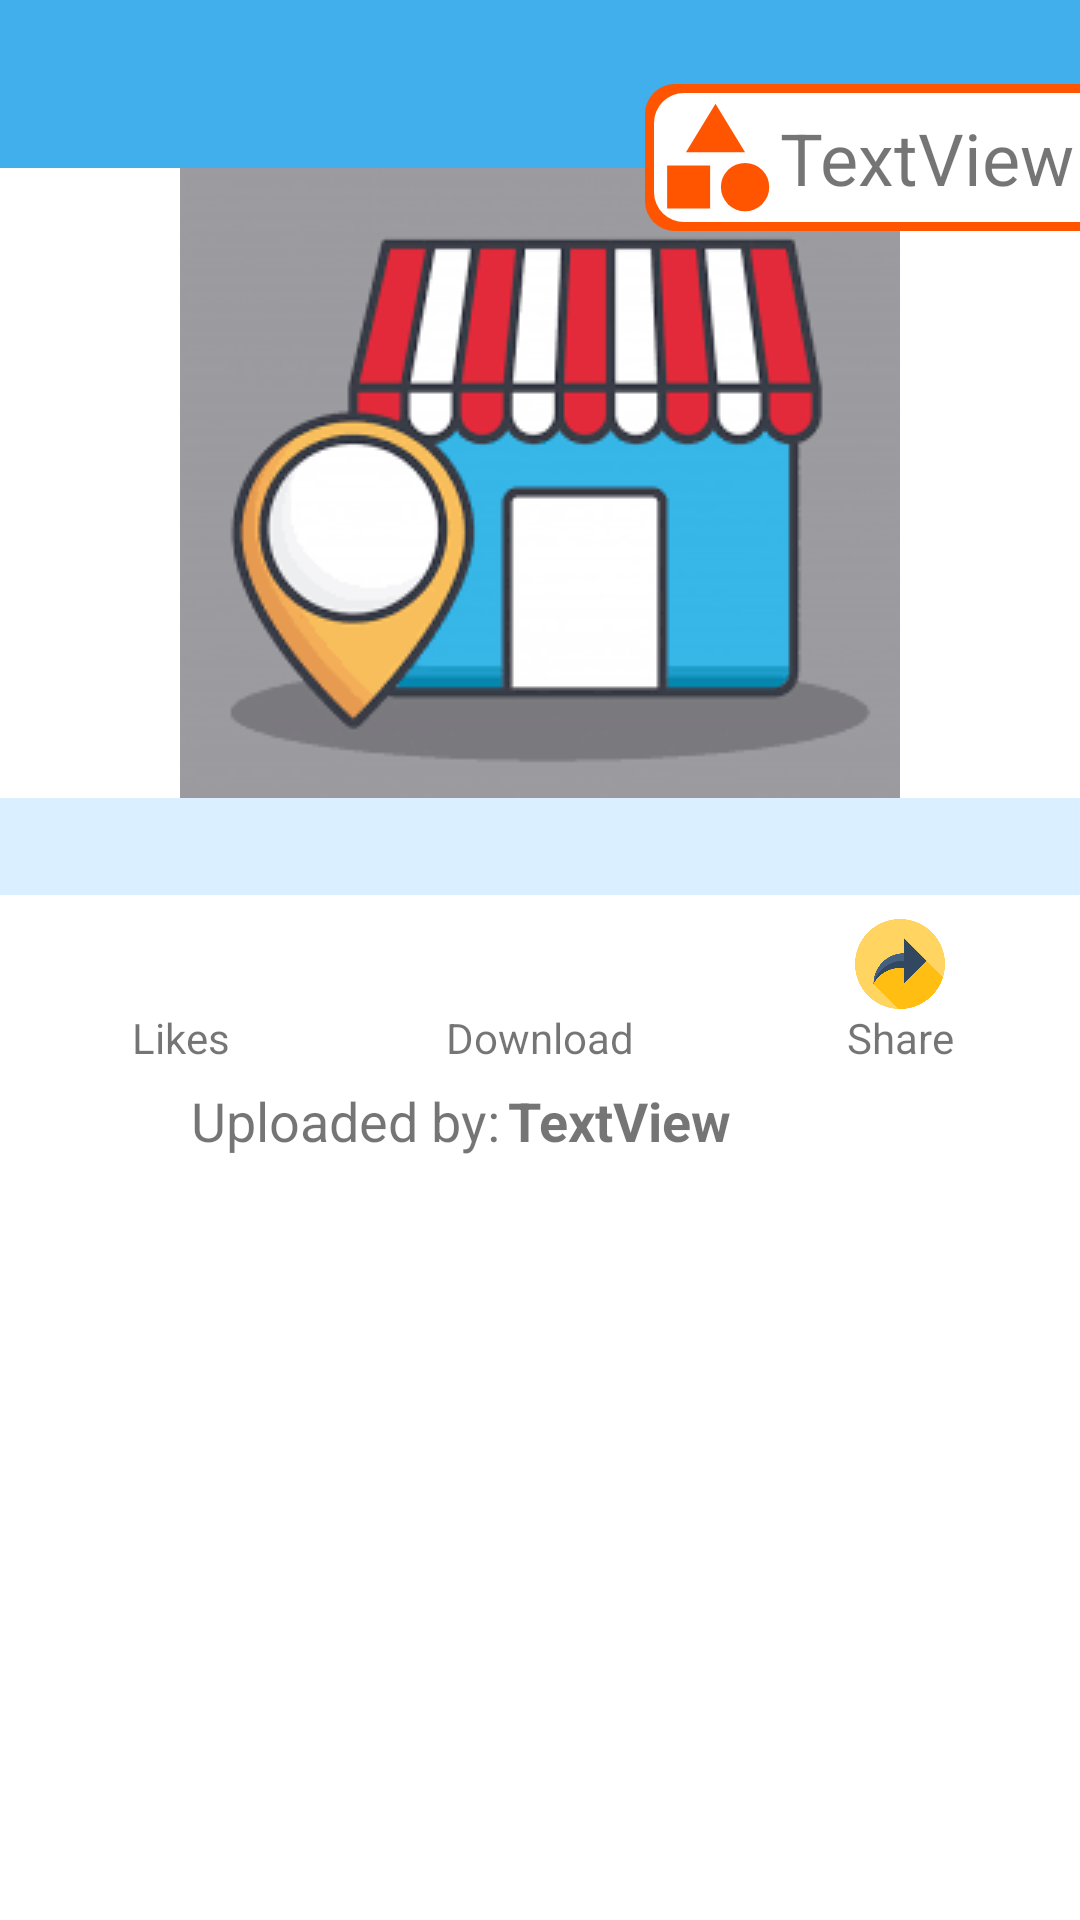

Screen size 1080*1920. Icon name, then its box in pixels as (x1, y1, x2, y2):
category: (651, 90, 780, 225)
